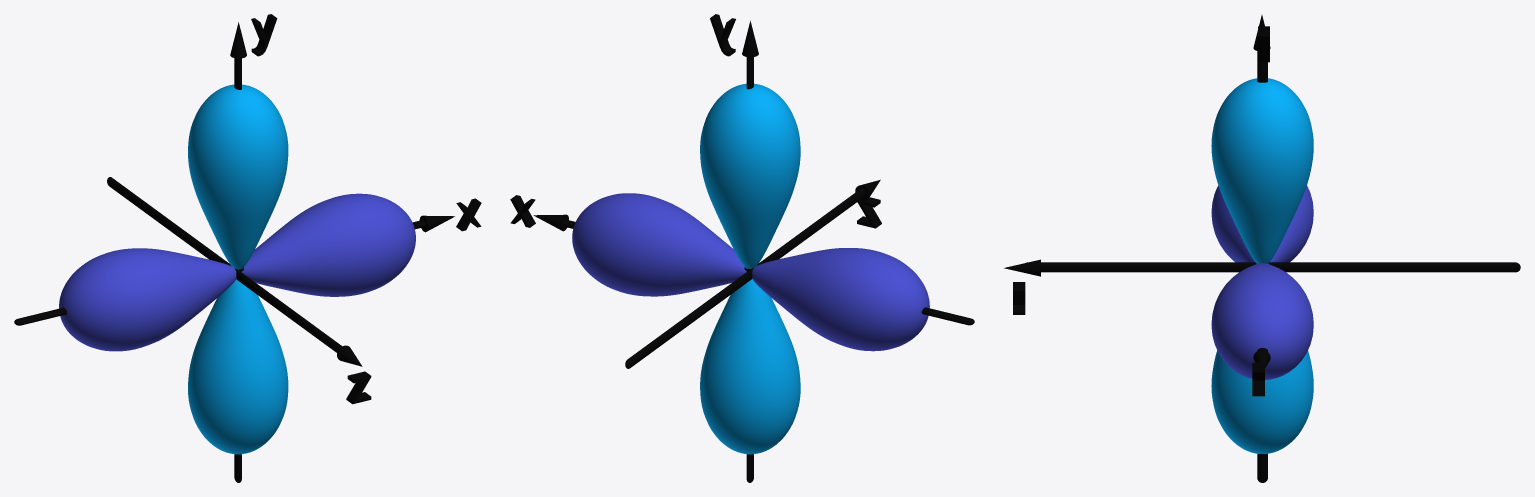
Rendered from d2orbital.fbx.
3 views of the same model, side by side, from view 1: azimuth 30°, elevation 25°; view 2: azimuth 150°, elevation 25°; view 3: azimuth 270°, elevation 25° (orthographic).
Parts seen in each view (by area): view 1: node_id56, node_id133, node_id136, node_id34, root (×2), node_id107, node_id109, node_id105; view 2: node_id56, node_id133, node_id136, node_id34, root (×3), node_id107, node_id109, node_id105; view 3: node_id56, node_id136, node_id34, root (×2), node_id133.
Part boxes in pixels (box(x1,y1,x2,y2)): node_id56: box(188, 84, 288, 269); node_id133: box(59, 248, 236, 351); node_id136: box(241, 193, 415, 296); node_id34: box(188, 279, 288, 454); root (×2): box(14, 177, 426, 354); node_id107: box(251, 14, 277, 56); node_id109: box(346, 371, 371, 404); node_id105: box(456, 198, 481, 231); node_id56: box(700, 83, 800, 268); node_id133: box(752, 248, 929, 351); node_id136: box(572, 193, 746, 296); node_id34: box(700, 279, 800, 454); root (×3): box(548, 41, 974, 482); node_id107: box(710, 14, 735, 56); node_id109: box(857, 197, 881, 228); node_id105: box(510, 195, 535, 227); node_id56: box(1211, 78, 1313, 263); node_id136: box(1211, 263, 1313, 379); node_id34: box(1211, 350, 1313, 453); root (×2): box(1025, 51, 1520, 482); node_id133: box(1211, 185, 1313, 262).
Size of the model in its own units: 0.8474 by 0.8087 by 0.8087.
9 materials, 6 textured.
